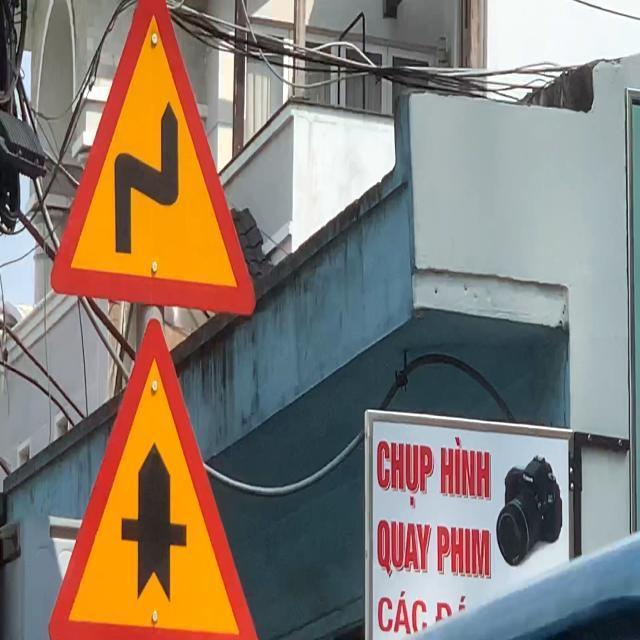201-cho-ngoat-nguy-hiem: (48, 2, 260, 310)
207-giao-nhau-voi-duong-khong-uu-tien: (46, 319, 258, 640)
